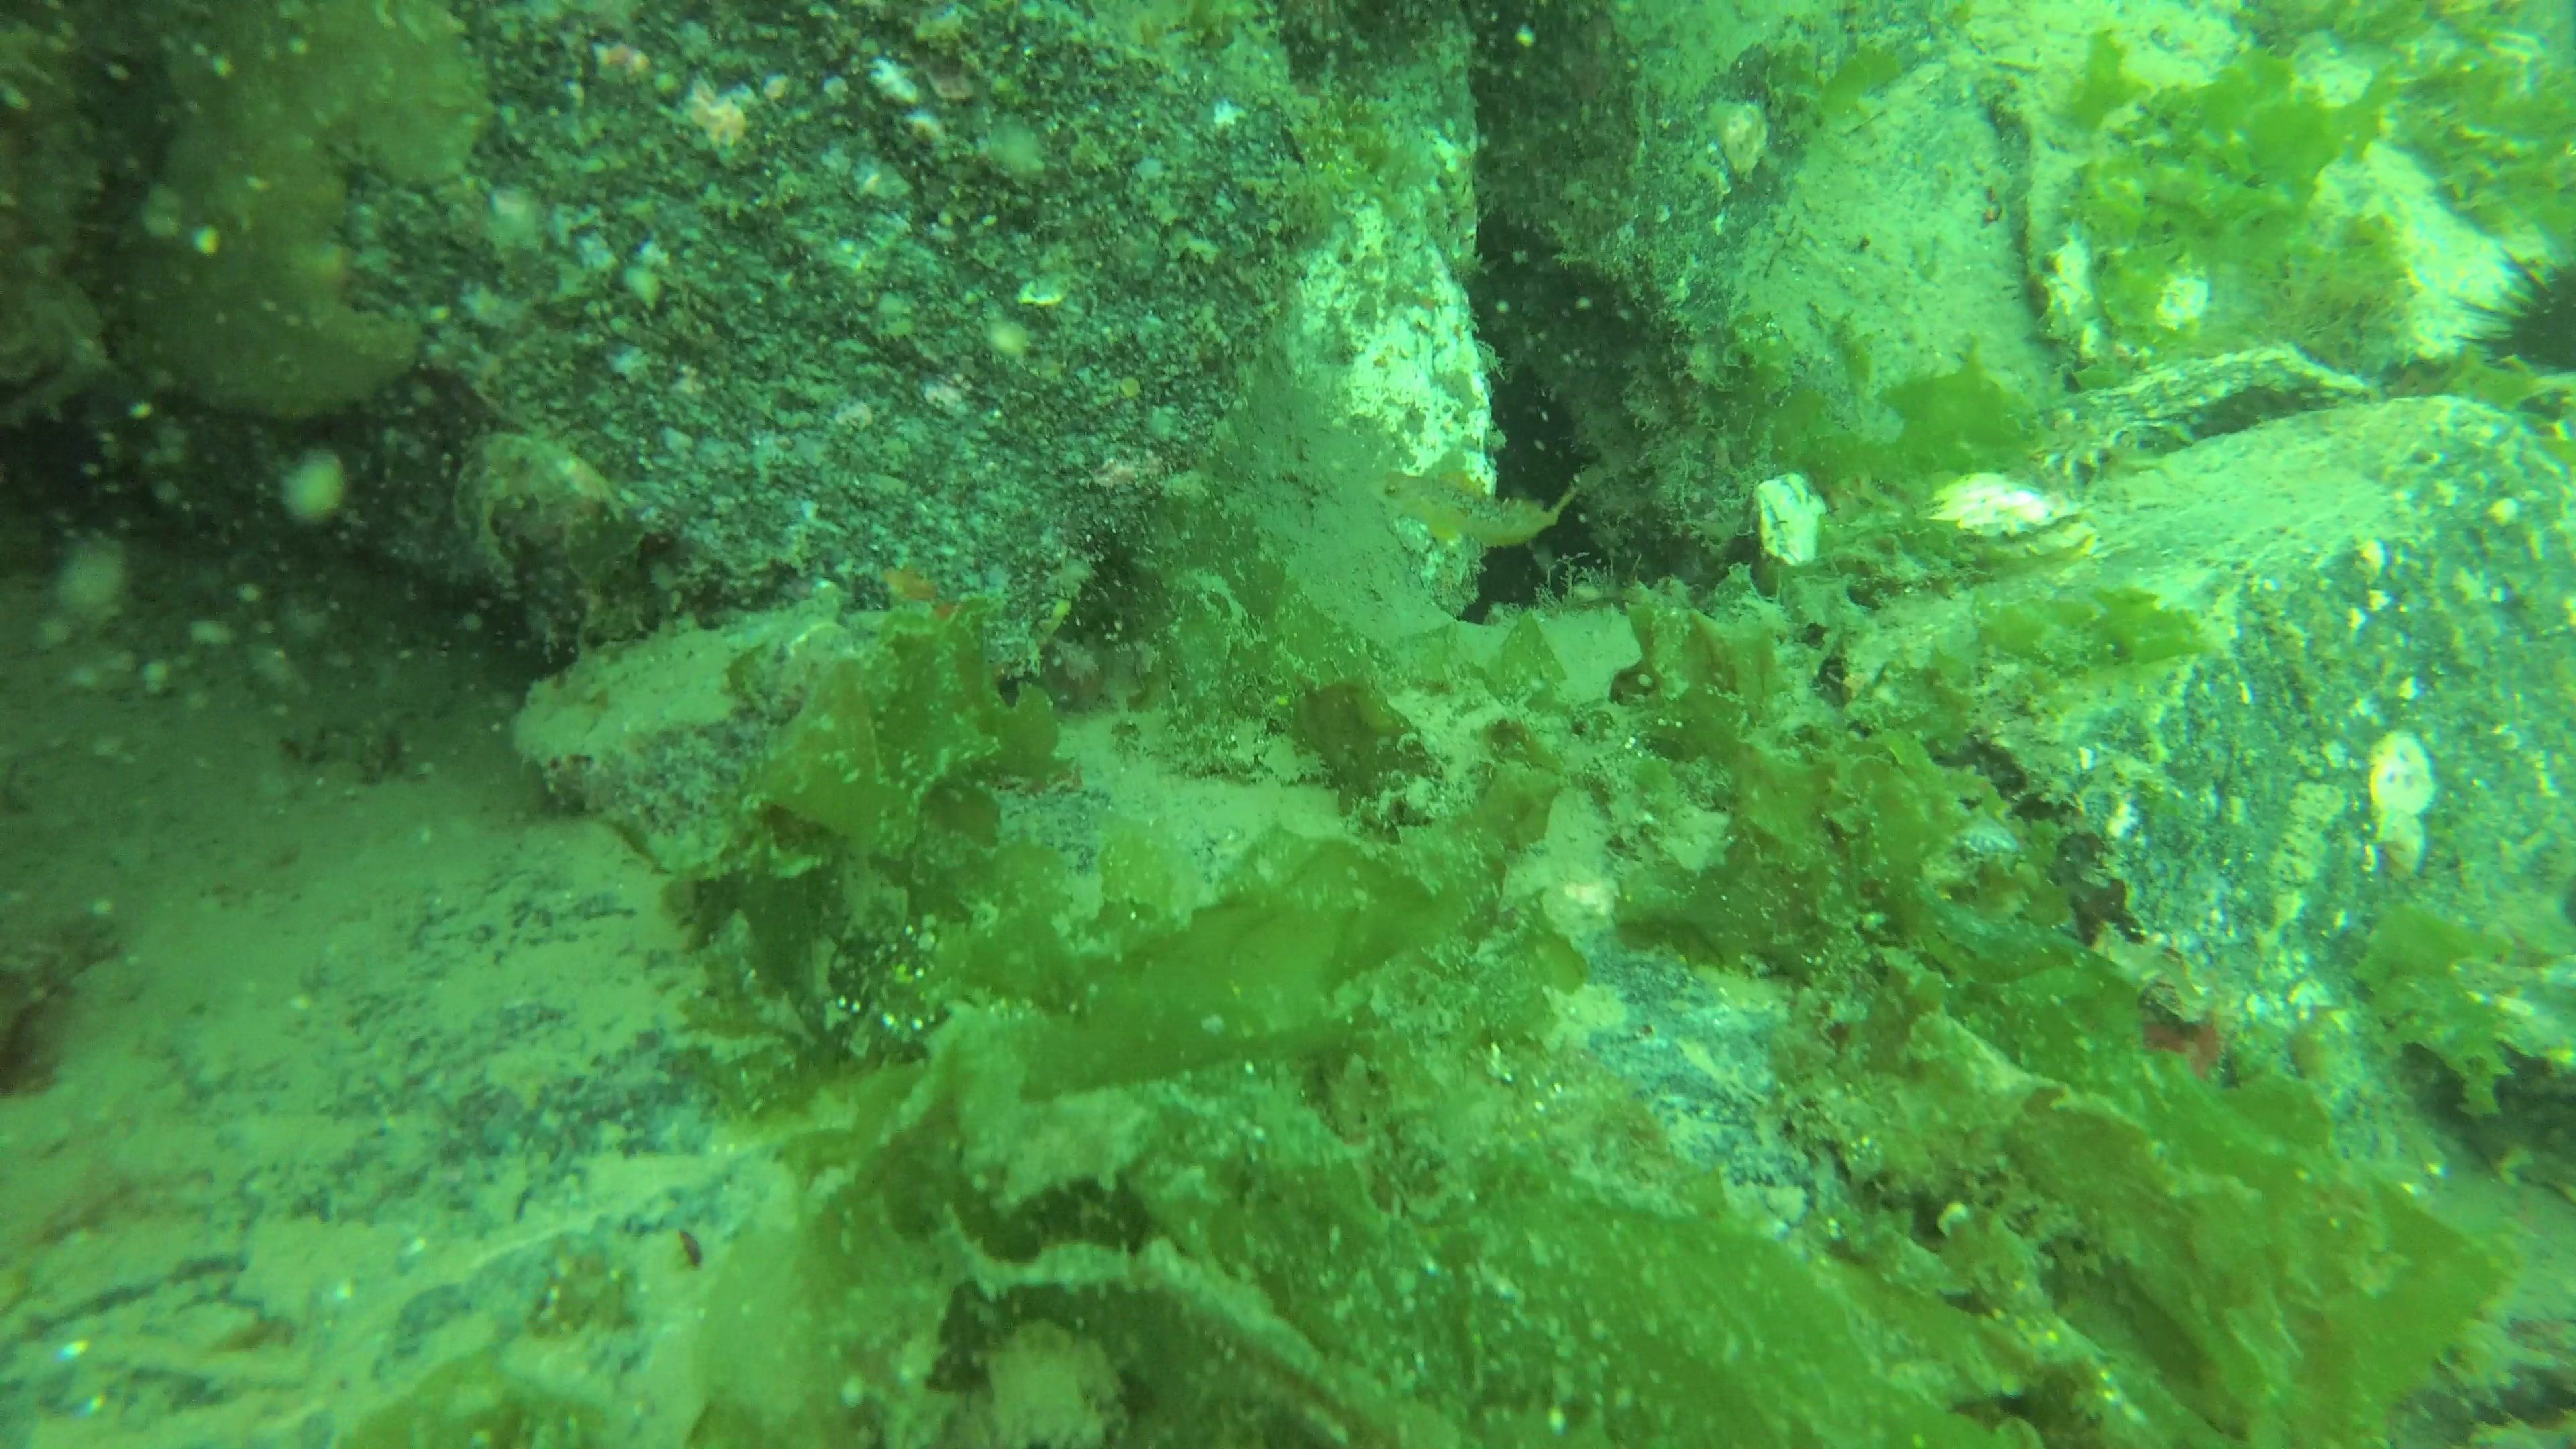echinus: (2461, 244, 2576, 398)
